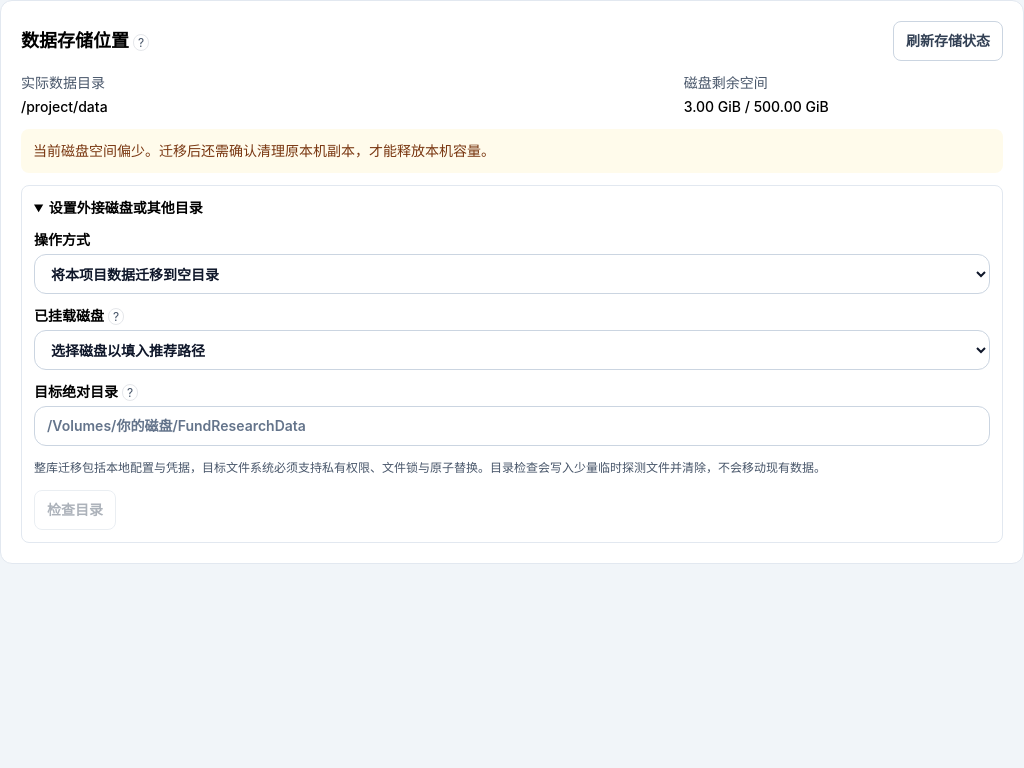
先检查、再确认保存，并展示离线重启步骤
This screenshot has width=1024, height=768.
expect the text "/project/data" is shown: met, box [21,98,108,115]
Step 1. Select "研究磁盘 · 剩余 100.00 GiB" in the dropdown labelled "已挂载磁盘" → (512, 350), box [34,330,990,370]
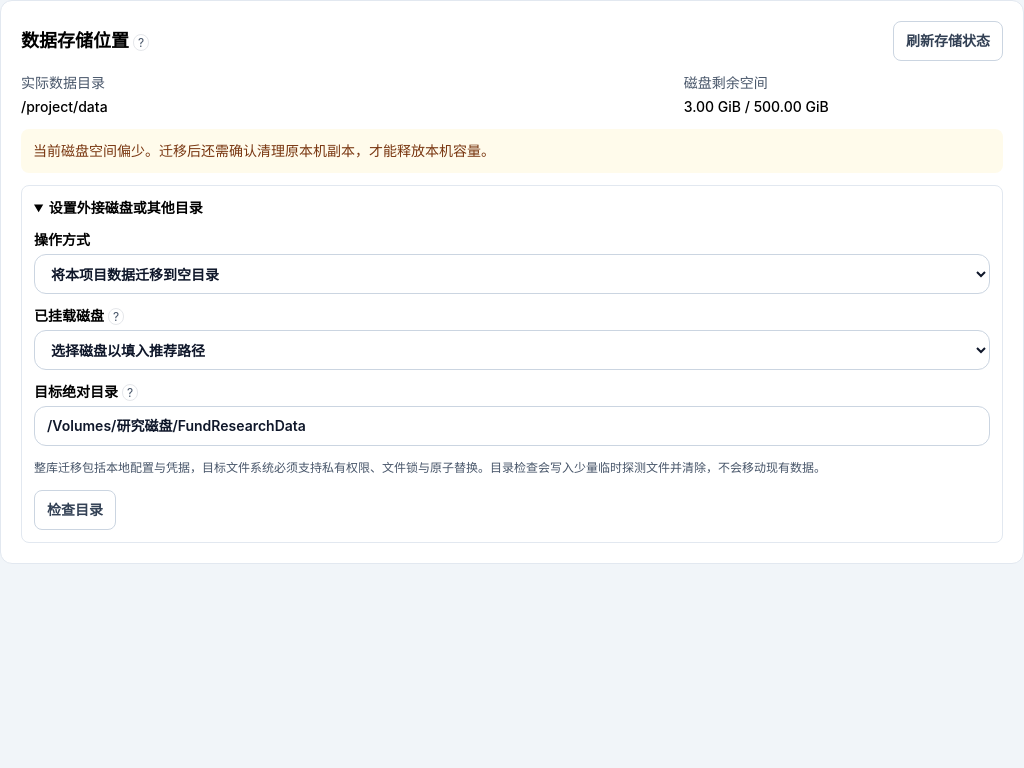
Step 2. Click the button "检查目录" → (75, 510), box [34,490,116,530]
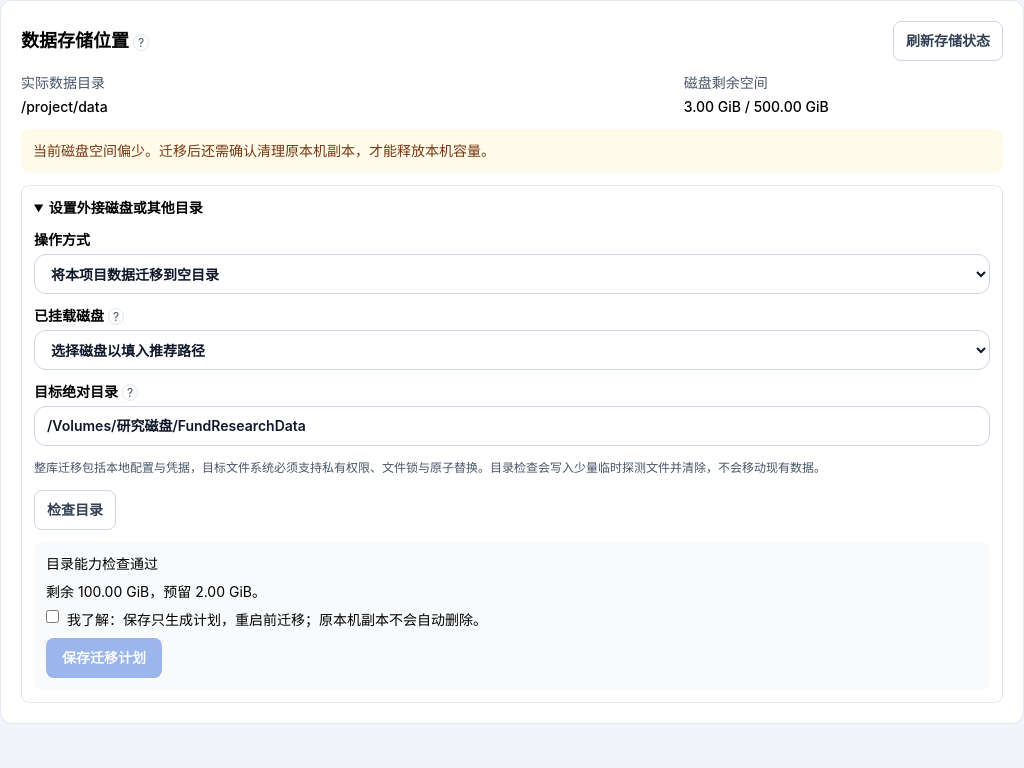
expect the text "目录能力检查通过" is shown: met, box [46,555,158,572]
expect the button "保存迁移计划" is disabled: met, box [46,638,162,678]
Step 3. Click the checkbox named "确认保存迁移计划" → (52, 616), box [46,610,59,623]
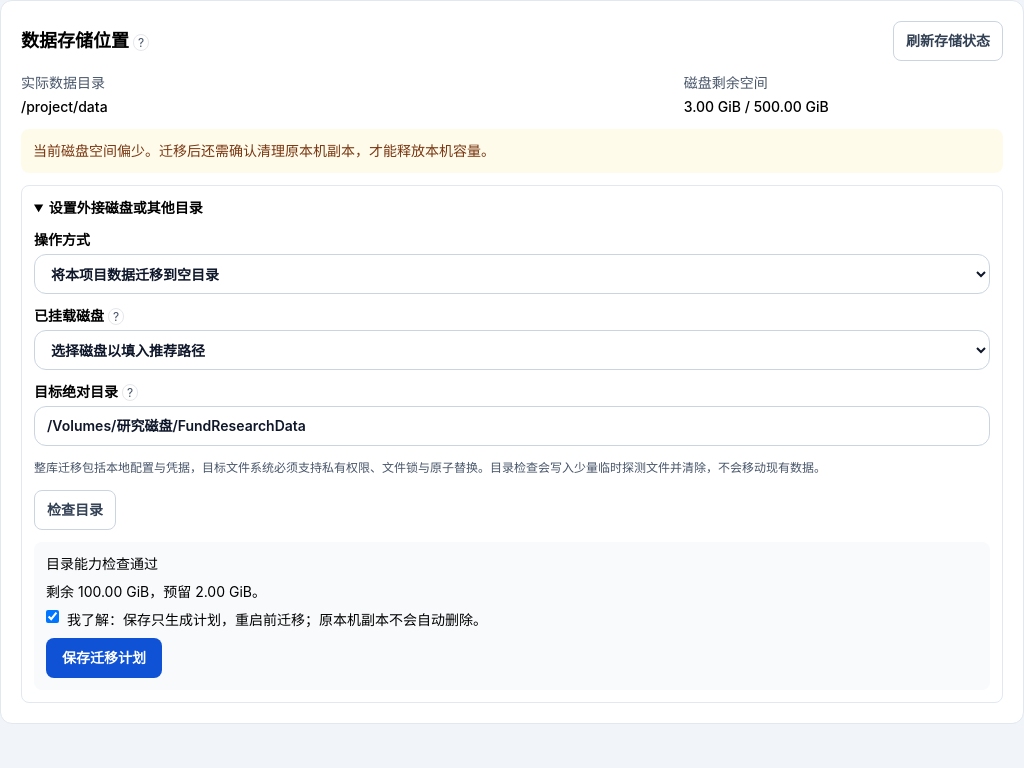
Step 4. Click the button "保存迁移计划" → (104, 658), box [46,638,162,678]
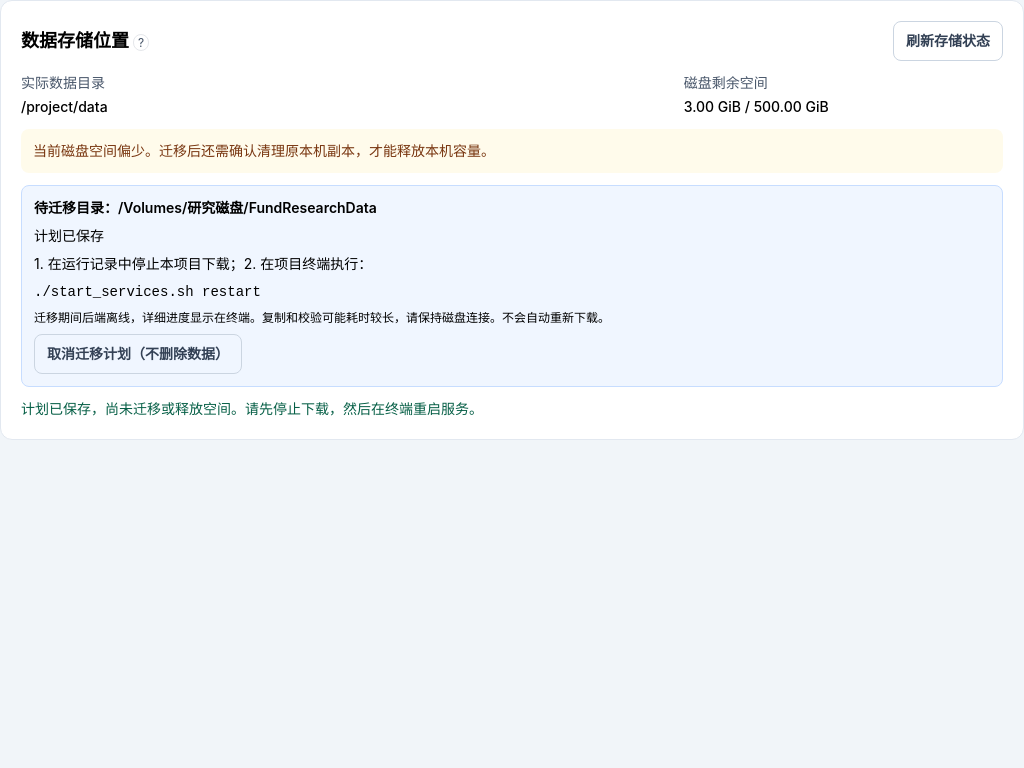
expect the text "./start_services.sh restart" is shown: met, box [34,284,261,300]
expect the text "计划已保存，尚未迁移或释放空间。请先停止下载，然后在终端重启服务。" is shown: met, box [21,400,483,417]
